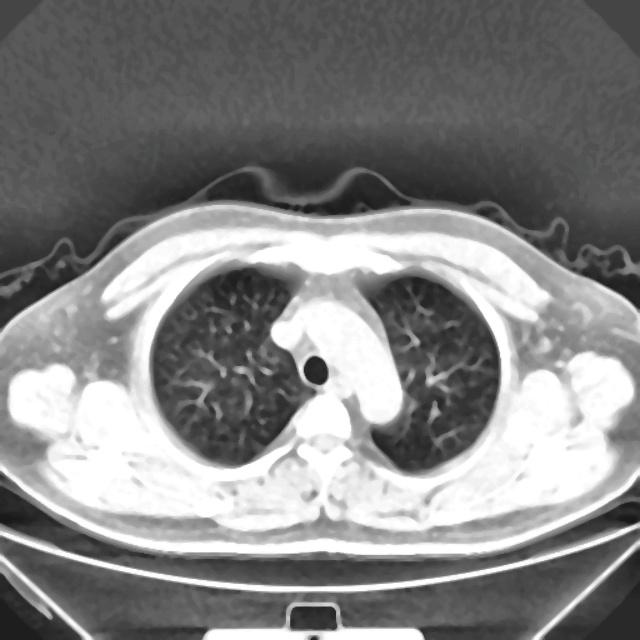covid: (0, 182, 639, 563)
